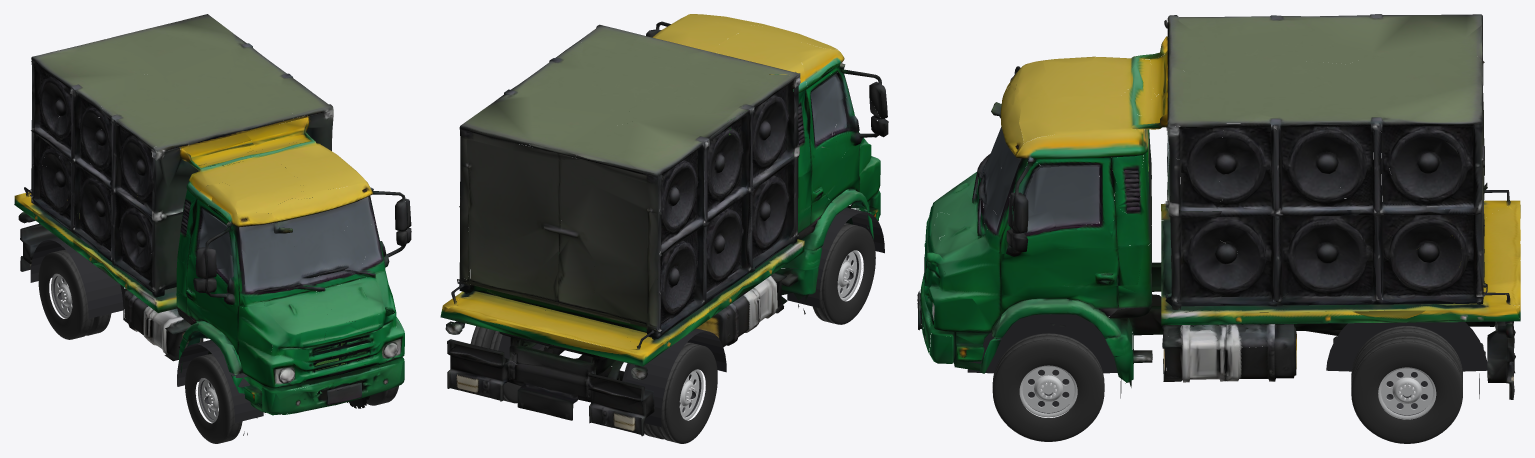
Rendered from truck-v5.glb.
The picture shows the model from 3 angles, left to right: view 1: azimuth 30°, elevation 25°; view 2: azimuth 150°, elevation 25°; view 3: azimuth 270°, elevation 25°; orthographic projection. The views are drawn at different scales.
Parts seen in each view (by area): view 1: tripo_node_904d4596-3dc3-46fb-9ce4-c6cd958846c6, TyreRim_Rear_L, TyreRim_Front_L, WheelWell_Rear_L, WheelWell_Front_L; view 2: tripo_node_904d4596-3dc3-46fb-9ce4-c6cd958846c6, TyreRim_Rear_L, TyreRim_Front_L, WheelWell_Rear_L, WheelWell_Front_L, TyreRim_Rear_R; view 3: tripo_node_904d4596-3dc3-46fb-9ce4-c6cd958846c6, TyreRim_Rear_R, TyreRim_Front_R, WheelWell_Rear_R, WheelWell_Front_R.
Part boxes in pixels (bbox=[...]): tripo_node_904d4596-3dc3-46fb-9ce4-c6cd958846c6: bbox=[14, 14, 411, 435]; TyreRim_Rear_L: bbox=[38, 249, 111, 339]; TyreRim_Front_L: bbox=[185, 354, 242, 443]; WheelWell_Rear_L: bbox=[30, 237, 124, 318]; WheelWell_Front_L: bbox=[177, 340, 263, 422]; tripo_node_904d4596-3dc3-46fb-9ce4-c6cd958846c6: bbox=[440, 14, 888, 436]; TyreRim_Rear_L: bbox=[644, 342, 717, 443]; TyreRim_Front_L: bbox=[813, 223, 875, 324]; WheelWell_Rear_L: bbox=[622, 328, 726, 427]; WheelWell_Front_L: bbox=[787, 207, 884, 307]; TyreRim_Rear_R: bbox=[470, 326, 549, 403]; tripo_node_904d4596-3dc3-46fb-9ce4-c6cd958846c6: bbox=[917, 14, 1520, 399]; TyreRim_Rear_R: bbox=[1351, 326, 1462, 443]; TyreRim_Front_R: bbox=[992, 333, 1104, 441]; WheelWell_Rear_R: bbox=[1326, 310, 1487, 398]; WheelWell_Front_R: bbox=[967, 314, 1121, 398].
Bounding box in the file's own units: 3.52 × 4.02 × 6.8.
9 materials, 2 textured.
